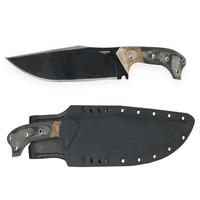knife: (4, 36, 192, 92)
